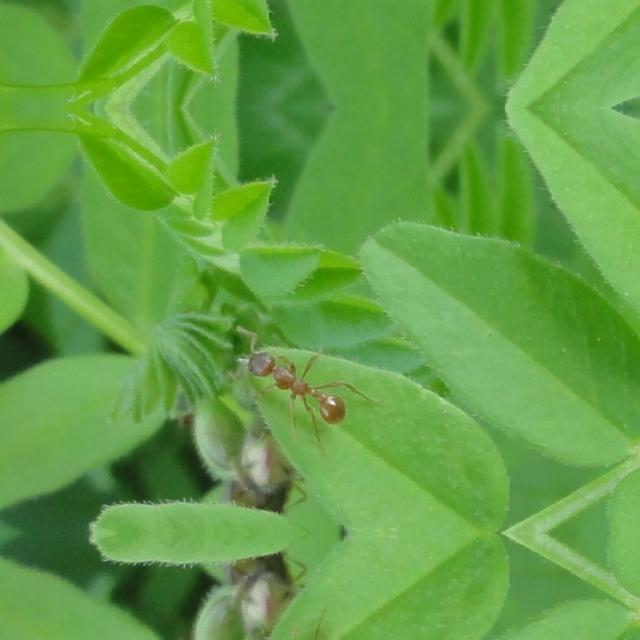Myrmica: (228, 326, 350, 439)
